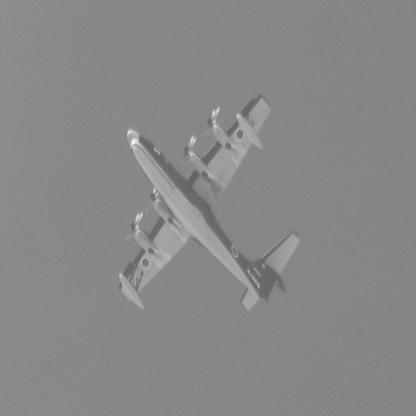US2: (118, 95, 302, 314)
